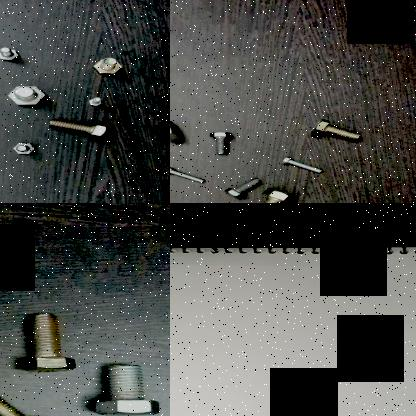Bolts: (91, 355, 161, 416), (20, 312, 78, 376), (0, 390, 63, 416), (46, 115, 111, 140), (306, 118, 369, 142), (4, 80, 44, 108), (276, 155, 325, 176), (222, 177, 266, 199), (170, 163, 210, 186), (86, 56, 128, 76), (206, 129, 235, 157), (248, 187, 296, 203), (170, 115, 188, 146), (0, 44, 22, 64), (10, 142, 40, 156), (82, 94, 104, 106)
